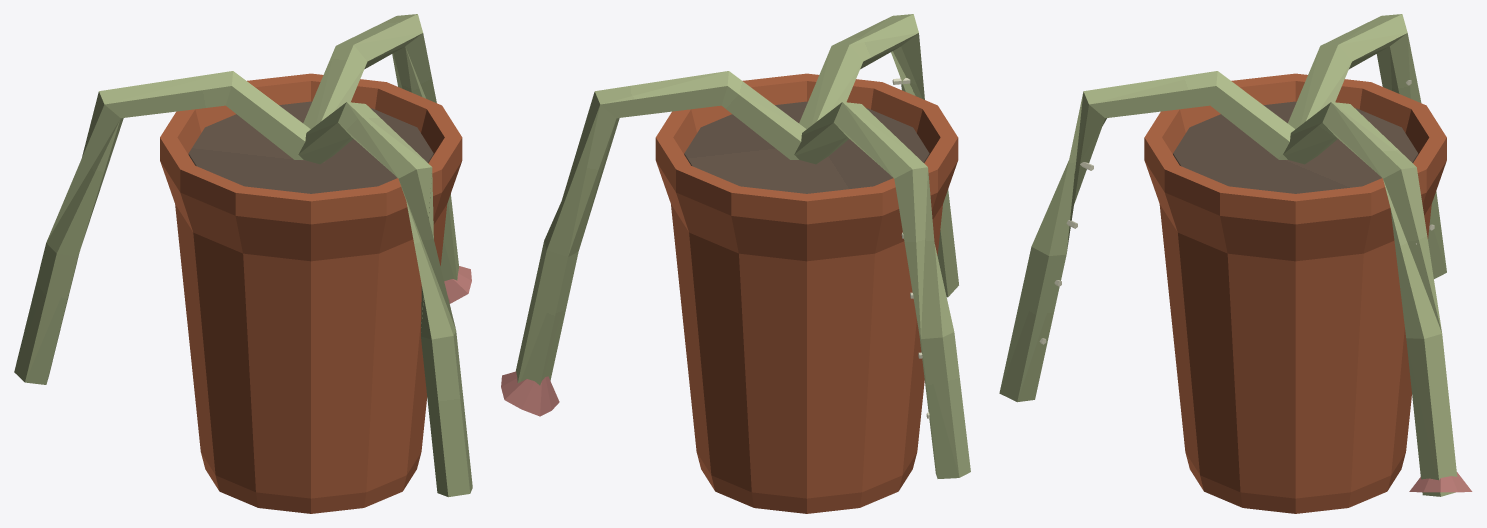
Rendered from trailing.glb.
The picture shows the model from 3 angles, left to right: view 1: azimuth 30°, elevation 25°; view 2: azimuth 150°, elevation 25°; view 3: azimuth 270°, elevation 25°; orthographic projection.
Visible parts, largest first — view 1: trailing/review-terra-vessel, trailing/pendent-fleshy-stem-008, trailing/pendent-fleshy-stem-013, trailing/review-rooted-soil, trailing/pendent-fleshy-stem-001, trailing/hollow-corolla-006; view 2: trailing/review-terra-vessel, trailing/pendent-fleshy-stem-001, trailing/pendent-fleshy-stem-008, trailing/review-rooted-soil, trailing/pendent-fleshy-stem-013, trailing/hollow-corolla-006; view 3: trailing/review-terra-vessel, trailing/pendent-fleshy-stem-013, trailing/pendent-fleshy-stem-001, trailing/review-rooted-soil, trailing/pendent-fleshy-stem-008, trailing/hollow-corolla-006.
Boxes of the visible parts, <box> form: trailing/review-terra-vessel: <box>160,73,462,513</box>; trailing/pendent-fleshy-stem-008: <box>14,71,310,384</box>; trailing/pendent-fleshy-stem-013: <box>298,102,472,497</box>; trailing/review-rooted-soil: <box>188,101,433,193</box>; trailing/pendent-fleshy-stem-001: <box>303,14,458,281</box>; trailing/hollow-corolla-006: <box>444,266,471,303</box>; trailing/review-terra-vessel: <box>655,73,958,513</box>; trailing/pendent-fleshy-stem-001: <box>516,71,806,385</box>; trailing/pendent-fleshy-stem-008: <box>794,102,970,478</box>; trailing/review-rooted-soil: <box>684,101,929,193</box>; trailing/pendent-fleshy-stem-013: <box>799,14,958,297</box>; trailing/hollow-corolla-006: <box>501,371,559,416</box>; trailing/review-terra-vessel: <box>1144,73,1446,513</box>; trailing/pendent-fleshy-stem-013: <box>999,71,1294,402</box>; trailing/pendent-fleshy-stem-001: <box>1283,102,1457,496</box>; trailing/review-rooted-soil: <box>1173,101,1418,193</box>; trailing/pendent-fleshy-stem-008: <box>1288,14,1446,278</box>; trailing/hollow-corolla-006: <box>1409,472,1472,492</box>.
Size of the model in its own units: 0.3319 by 0.275 by 0.2973.
Materials: 6 (6 with a texture image).
